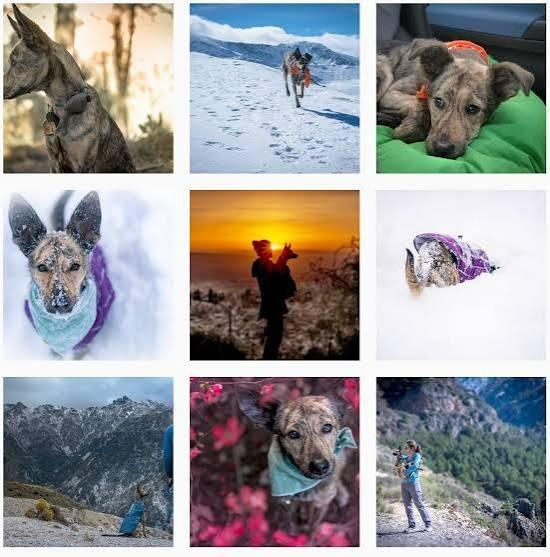adult_dog: (2, 5, 138, 174), (374, 32, 536, 159), (7, 189, 116, 361), (237, 385, 355, 536), (404, 231, 499, 300), (98, 482, 150, 537), (248, 239, 299, 274), (285, 47, 313, 108), (394, 453, 416, 487)
non-dog: (250, 259, 290, 360), (398, 441, 432, 534)
